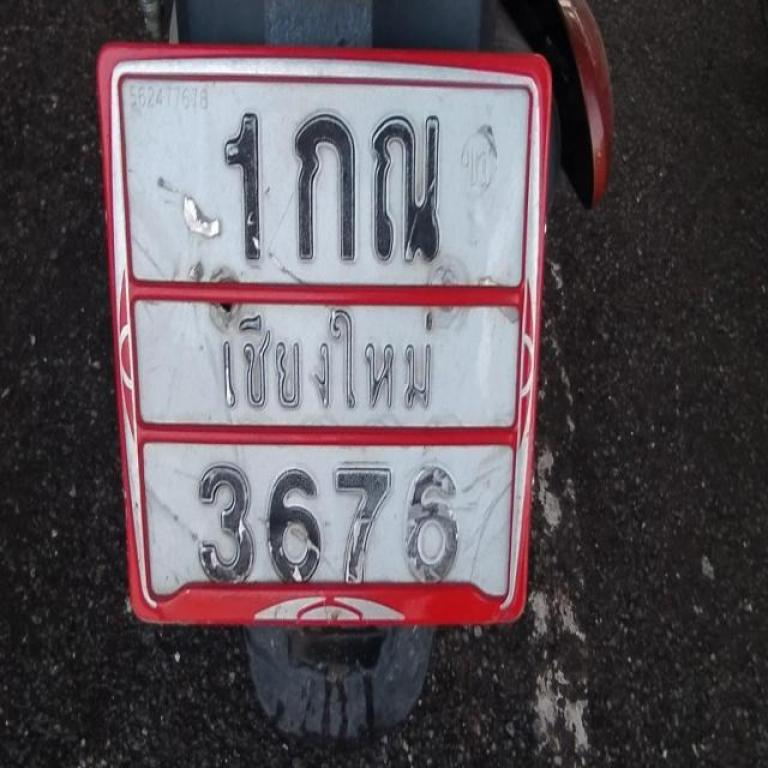license plate: (86, 28, 539, 628)
